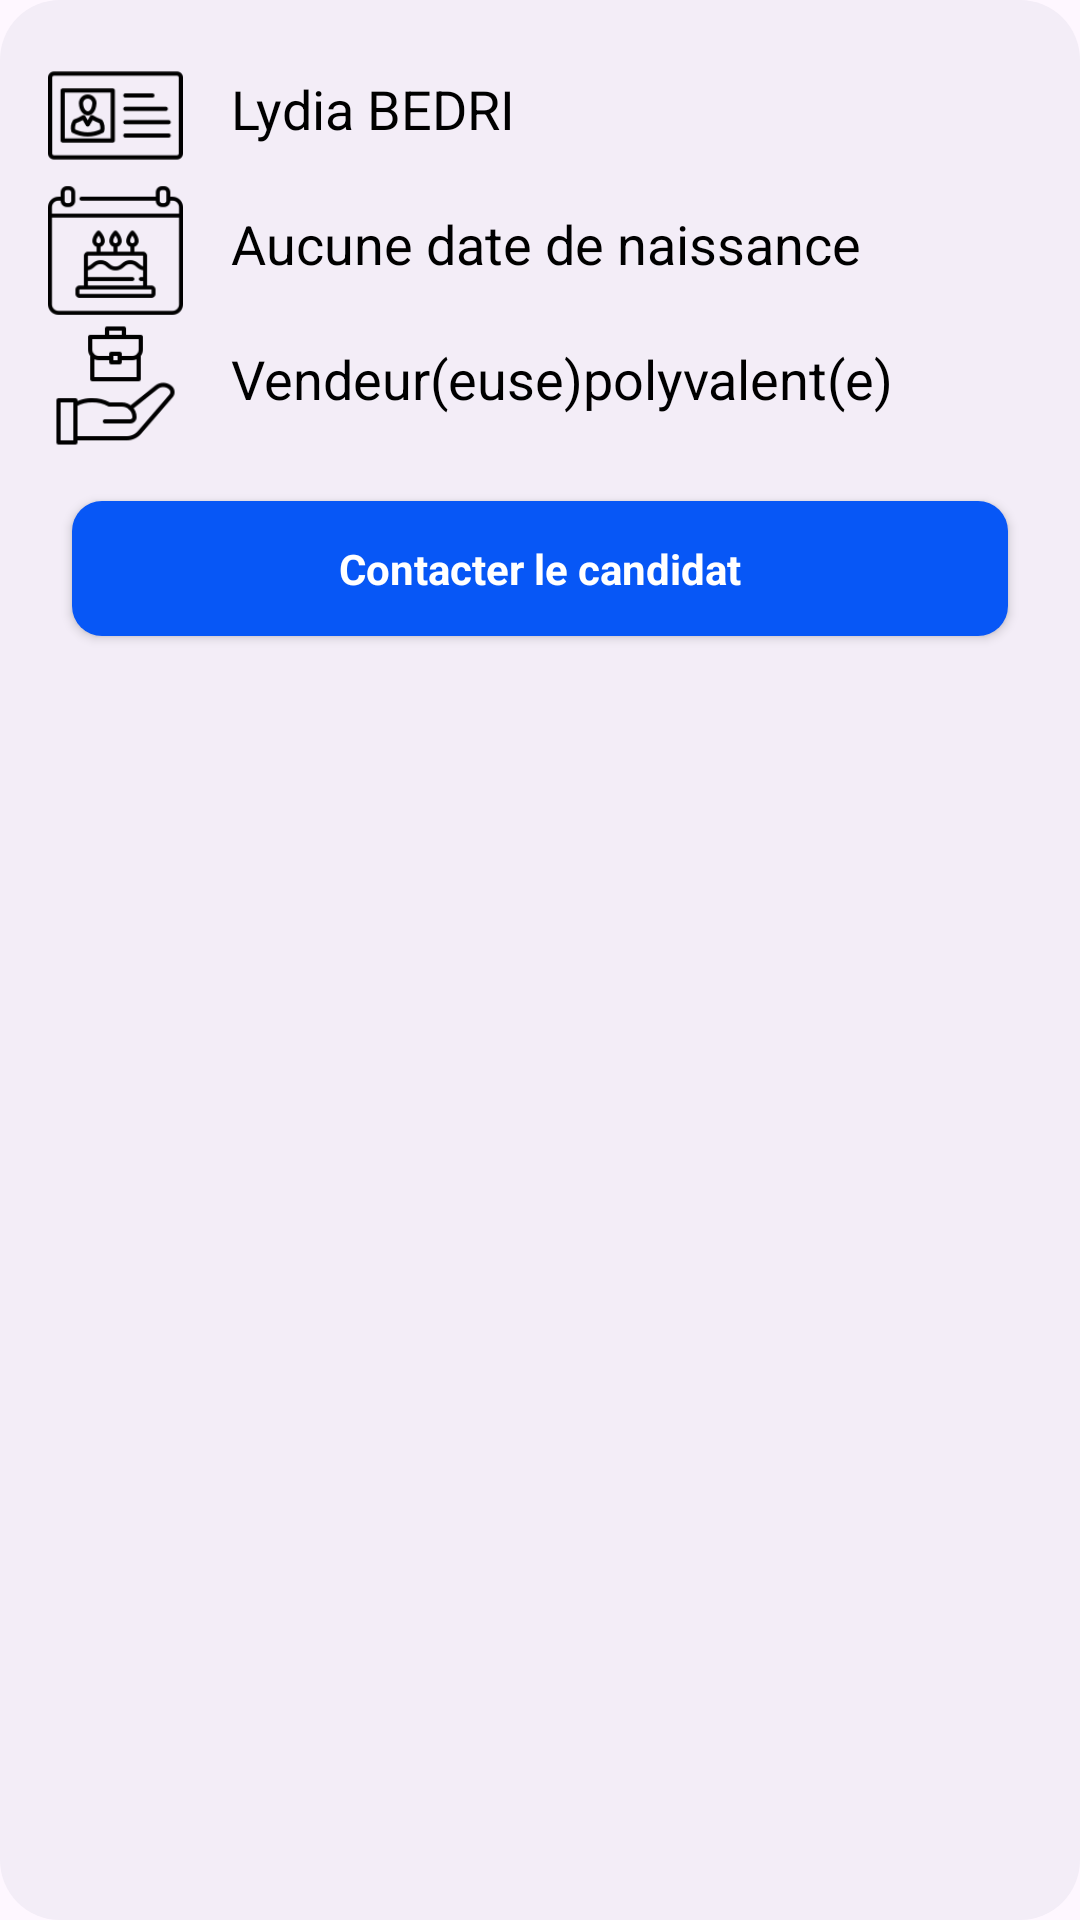

Locate icon controls on the screen. Image size 1080px×1920px, boxes as (x1, y1, x2, y2).
carriere: (56, 326, 175, 445)
carte de visite: (48, 71, 183, 160)
date danniversaire: (48, 186, 183, 315)
